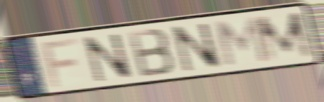B: (125, 26, 177, 79)
F: (39, 36, 81, 90)
M: (254, 9, 317, 64), (213, 15, 271, 68)
N: (169, 22, 224, 74), (81, 32, 136, 84)
